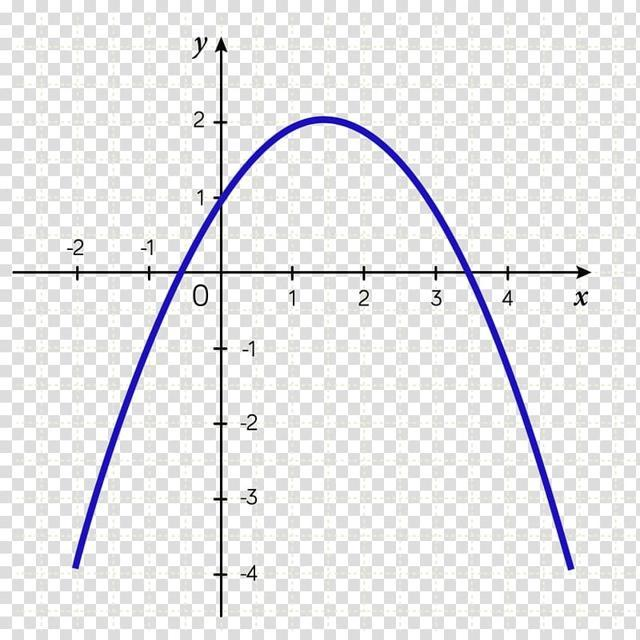axis: (11, 264, 598, 280), (214, 33, 228, 619)
line: (66, 110, 578, 576)
